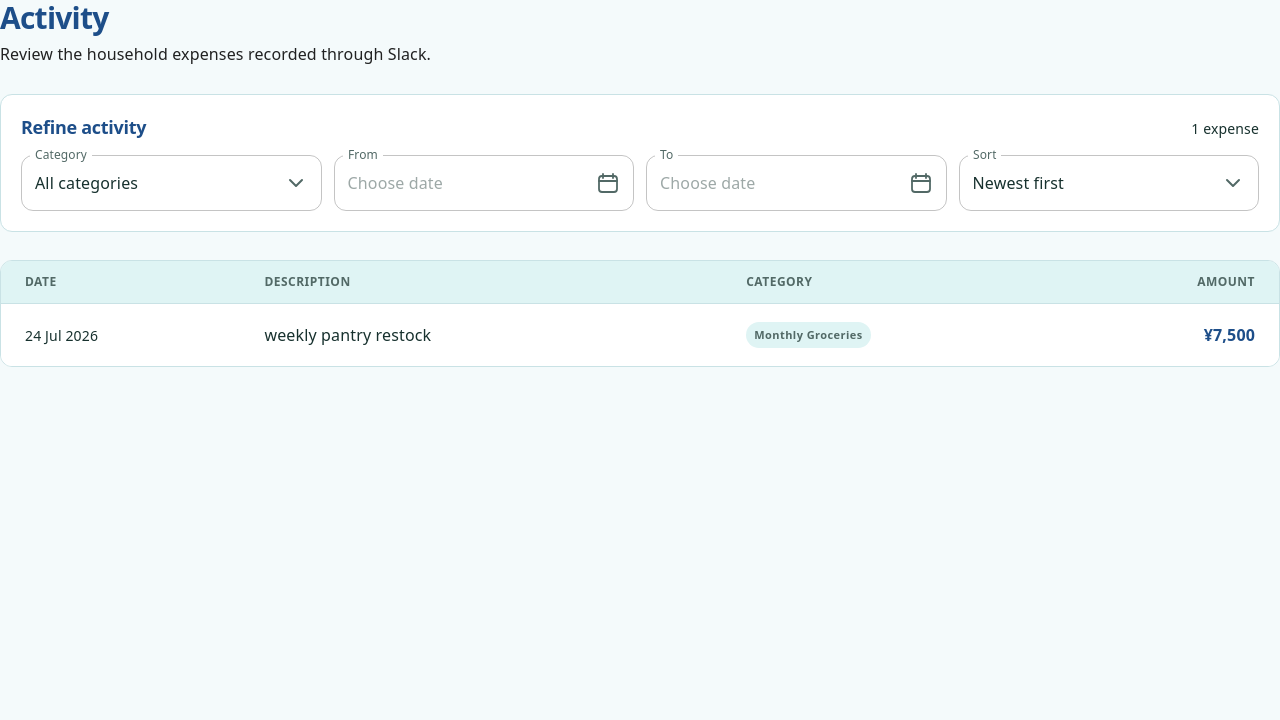
it: Activity mobile drawers › filters Activity through the category option sheet
The image size is (1280, 720).
Click the dropdown labelled "Category".
click(152, 183)  # box [21, 155, 284, 211]
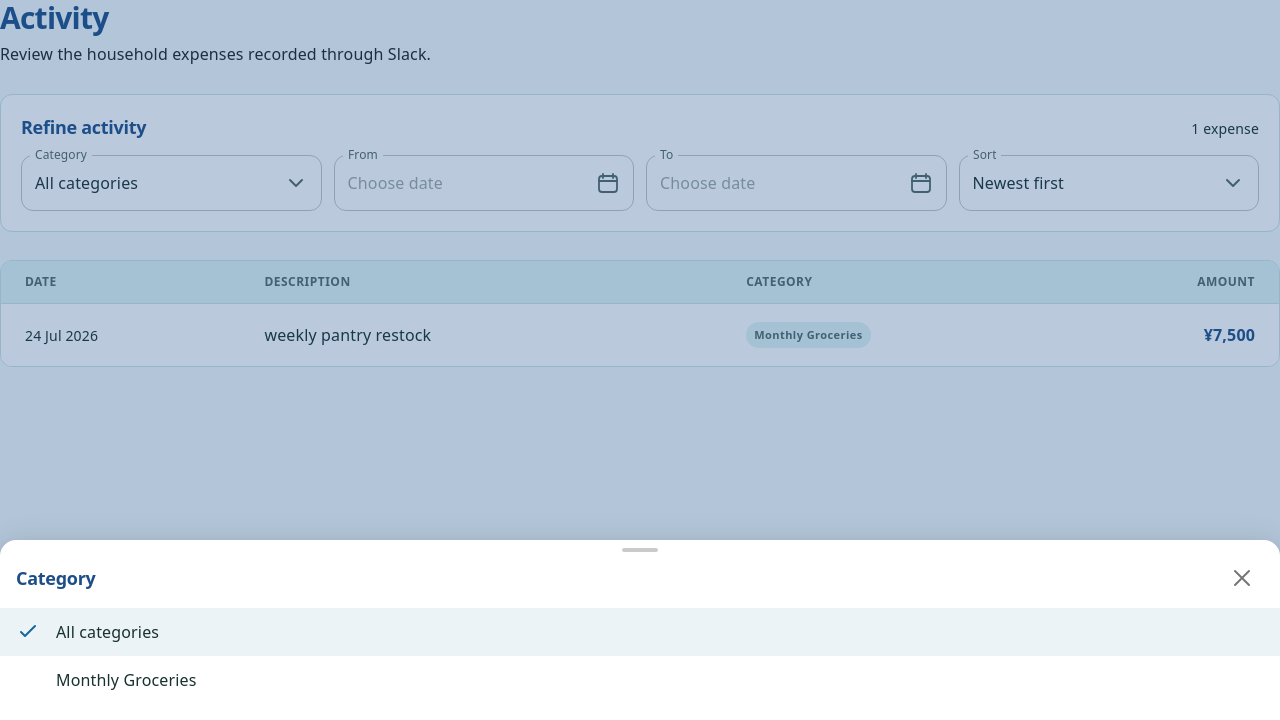
Click the option "Monthly Groceries".
click(126, 680)  # box [56, 669, 196, 691]
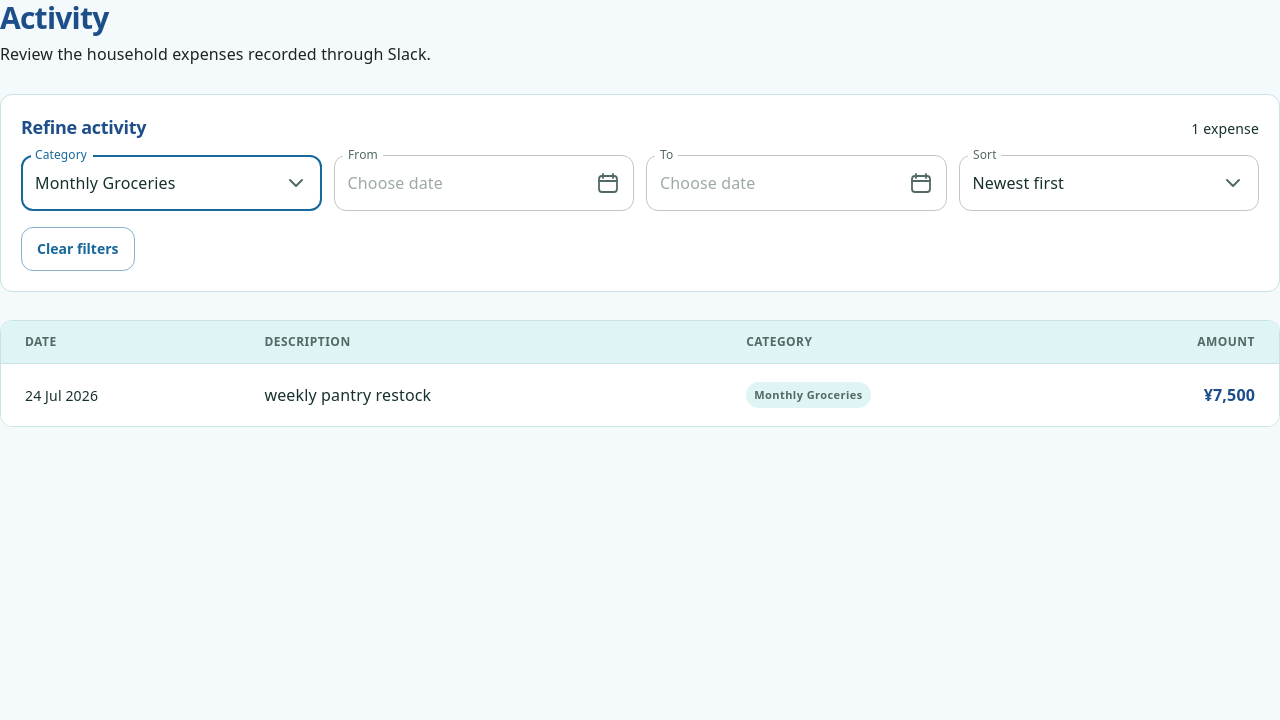
Now the dropdown labelled "Category" holds "Monthly Groceries", box [21, 155, 284, 211]
Now the button "Clear filters" is shown, box [21, 227, 134, 271]
